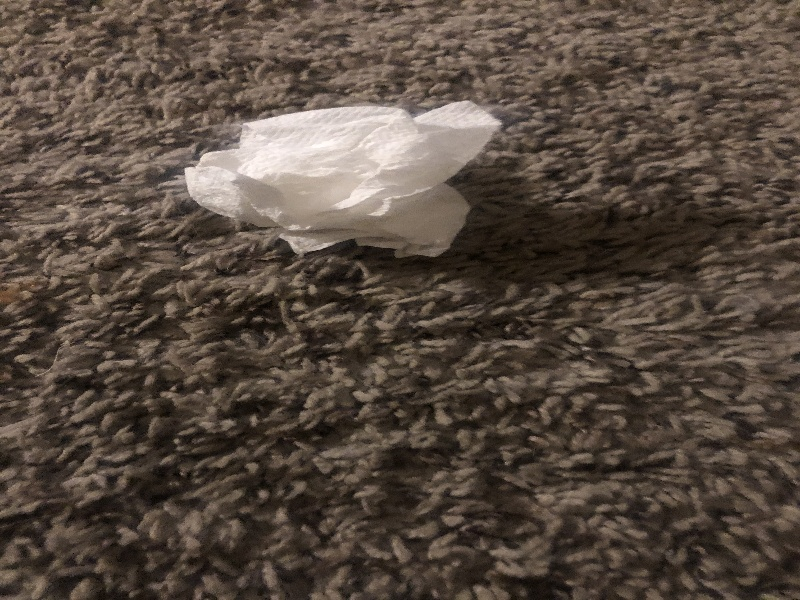paper: (176, 100, 505, 262)
